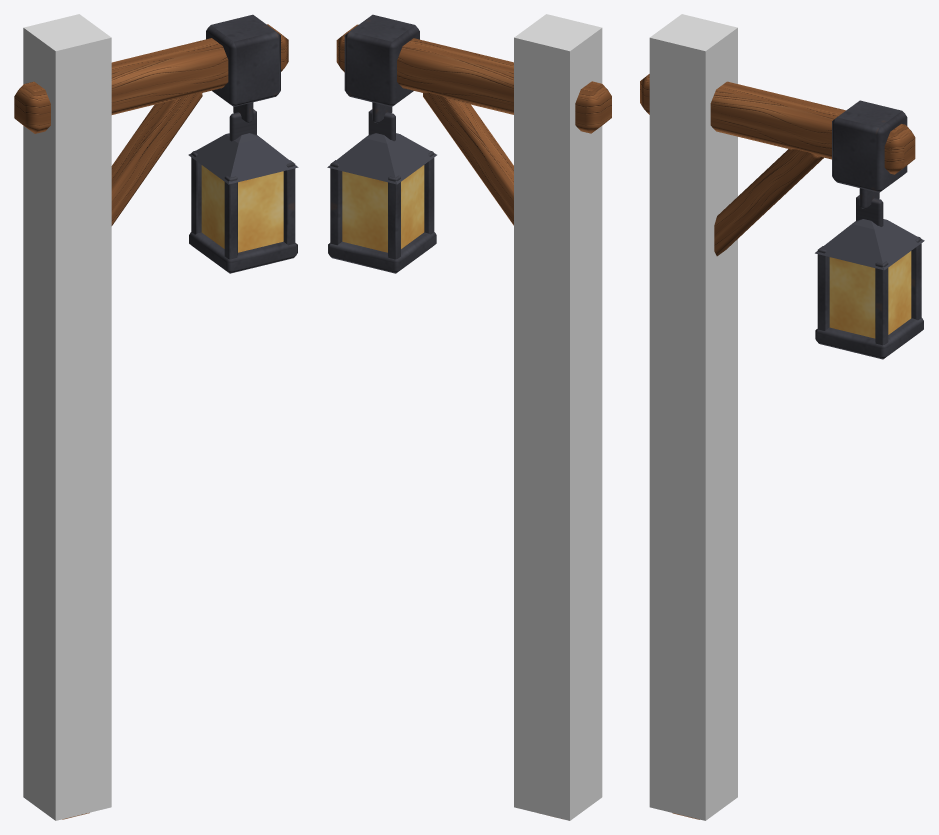
File: SM_LanternPost.fbx
The picture shows the model from 3 angles, left to right: view 1: azimuth 30°, elevation 25°; view 2: azimuth 150°, elevation 25°; view 3: azimuth 330°, elevation 25°; orthographic projection.
Visible parts, largest first — view 1: LanternPost_Col0, LanternPost_Body; view 2: LanternPost_Col0, LanternPost_Body; view 3: LanternPost_Col0, LanternPost_Body.
Boxes of the visible parts, left/top/right/bottom form: LanternPost_Col0: left=23, top=14, right=111, bottom=820; LanternPost_Body: left=14, top=14, right=298, bottom=819; LanternPost_Col0: left=514, top=14, right=602, bottom=820; LanternPost_Body: left=327, top=14, right=611, bottom=273; LanternPost_Col0: left=649, top=14, right=737, bottom=820; LanternPost_Body: left=640, top=74, right=924, bottom=819.
Bounding box in the file's own units: 3.3 × 9.3 × 0.9.
